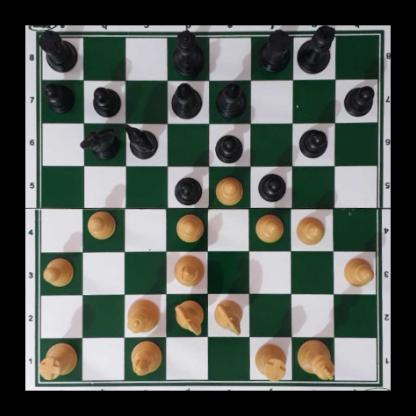black-bishop: (215, 83, 248, 118), (171, 82, 202, 118)
black-king: (298, 26, 334, 76)
black-knight: (123, 124, 157, 158), (80, 128, 118, 158)
black-pawn: (343, 84, 374, 118), (298, 127, 328, 158), (43, 82, 74, 112), (214, 131, 244, 162), (258, 171, 286, 202), (92, 84, 118, 117), (175, 174, 203, 204)
black-queen: (171, 28, 205, 76)
black-rook: (38, 26, 79, 72), (256, 30, 292, 74)
white-bishop: (130, 340, 161, 377), (175, 254, 204, 286)
white-king: (296, 339, 336, 383)
white-knight: (213, 298, 245, 334), (174, 300, 204, 334)
white-pawn: (341, 255, 374, 288), (296, 212, 326, 246), (42, 256, 75, 285), (255, 212, 284, 242), (214, 175, 244, 204), (87, 210, 116, 239), (176, 212, 204, 242)
white-queen: (127, 296, 159, 335)
white-rook: (38, 341, 77, 379), (255, 344, 288, 381)
